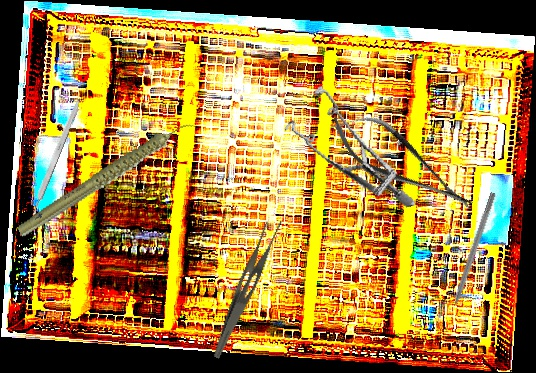Dressing Forceps: (212, 213, 285, 365)
Handpiece: (3, 119, 212, 239)
Hook Surgical: (445, 191, 497, 321)
Micro Scissor: (321, 96, 483, 229)
Scalpel Handle: (28, 96, 83, 216)
Speculum: (276, 70, 416, 233)
